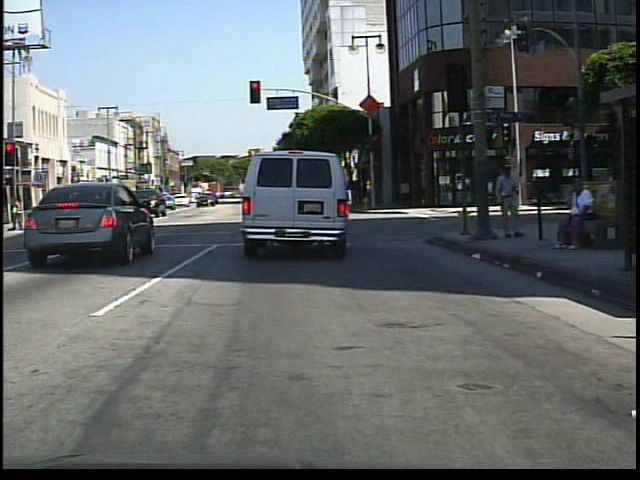person: (548, 175, 599, 253), (491, 160, 522, 242), (9, 194, 30, 236)
